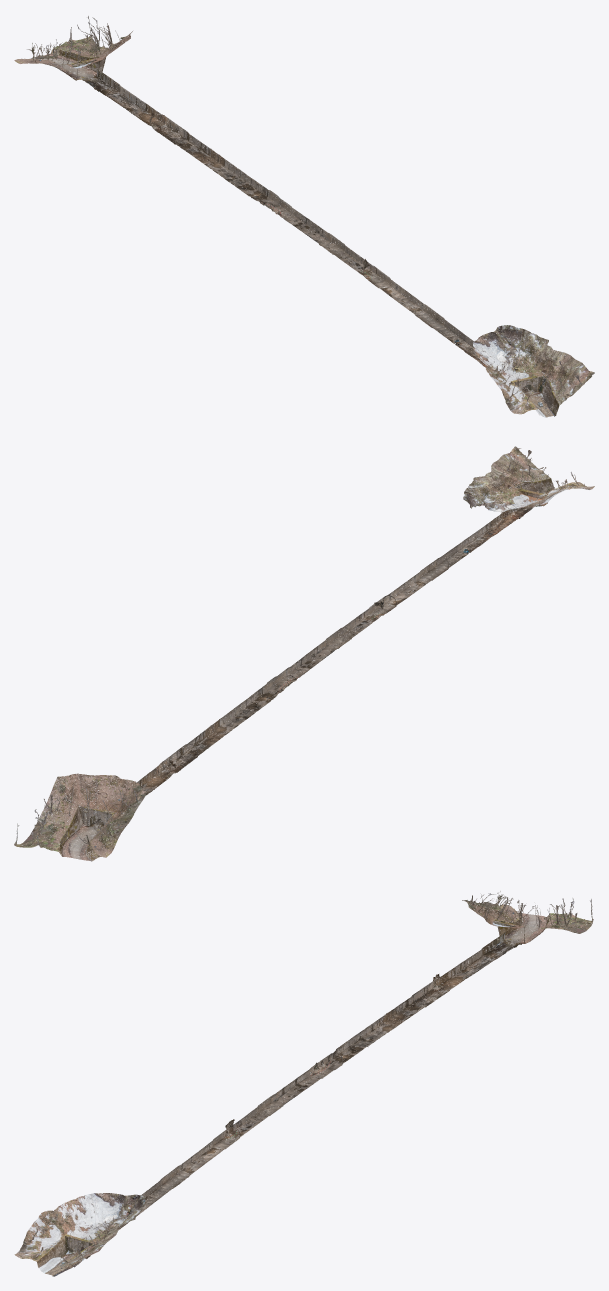
The model's file is tunnel.glb.
3 renders of one model, top to bottom at view 1: azimuth 30°, elevation 25°; view 2: azimuth 150°, elevation 25°; view 3: azimuth 330°, elevation 25°, orthographic.
Visible parts, largest first — view 1: Object_6, Object_2, Object_9, Object_10, Object_8, Object_12, Object_7, Object_4, Object_5, Object_13, Object_11, Object_14; view 2: Object_2, Object_6, Object_9, Object_7, Object_4, Object_12, Object_10, Object_8, Object_5, Object_13, Object_11, Object_14; view 3: Object_2, Object_6, Object_9, Object_12, Object_7, Object_4, Object_8, Object_10, Object_5, Object_11, Object_13, Object_14.
Part boxes in pixels (x1,y1,x2,y2): Object_6: (17,18,591,416); Object_2: (17,17,594,417); Object_9: (18,21,590,414); Object_10: (14,16,594,417); Object_8: (22,27,587,414); Object_12: (26,31,589,413); Object_7: (24,28,591,416); Object_4: (20,27,591,415); Object_5: (27,27,589,413); Object_13: (15,30,588,414); Object_11: (23,22,589,413); Object_14: (22,29,593,415); Object_2: (15,447,589,859); Object_6: (17,448,593,861); Object_9: (14,448,583,857); Object_7: (19,449,584,859); Object_4: (38,449,586,857); Object_12: (14,452,574,859); Object_10: (17,446,584,861); Object_8: (14,453,594,855); Object_5: (17,452,587,860); Object_13: (22,453,590,857); Object_11: (24,451,587,859); Object_14: (27,447,592,856); Object_2: (19,891,593,1273); Object_6: (15,893,592,1276); Object_9: (23,897,592,1271); Object_12: (25,893,592,1271); Object_7: (20,895,589,1275); Object_4: (22,895,590,1272); Object_8: (14,900,584,1263); Object_10: (23,894,591,1274); Object_5: (21,892,573,1273); Object_11: (21,897,579,1268); Object_13: (18,894,576,1270); Object_14: (16,894,590,1276).
Bounding box in the file's own units: 40.37 × 19.13 × 417.
12 materials, 12 textured.
